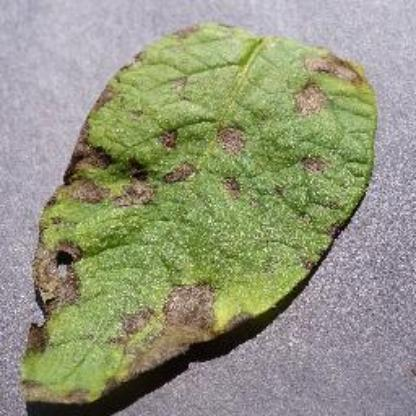Early-Blight: (16, 20, 382, 408)
